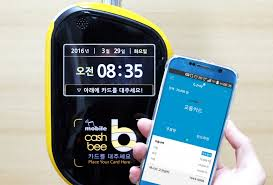terminal: (44, 1, 172, 184)
